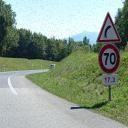speed_limit_70: (97, 42, 121, 76)
